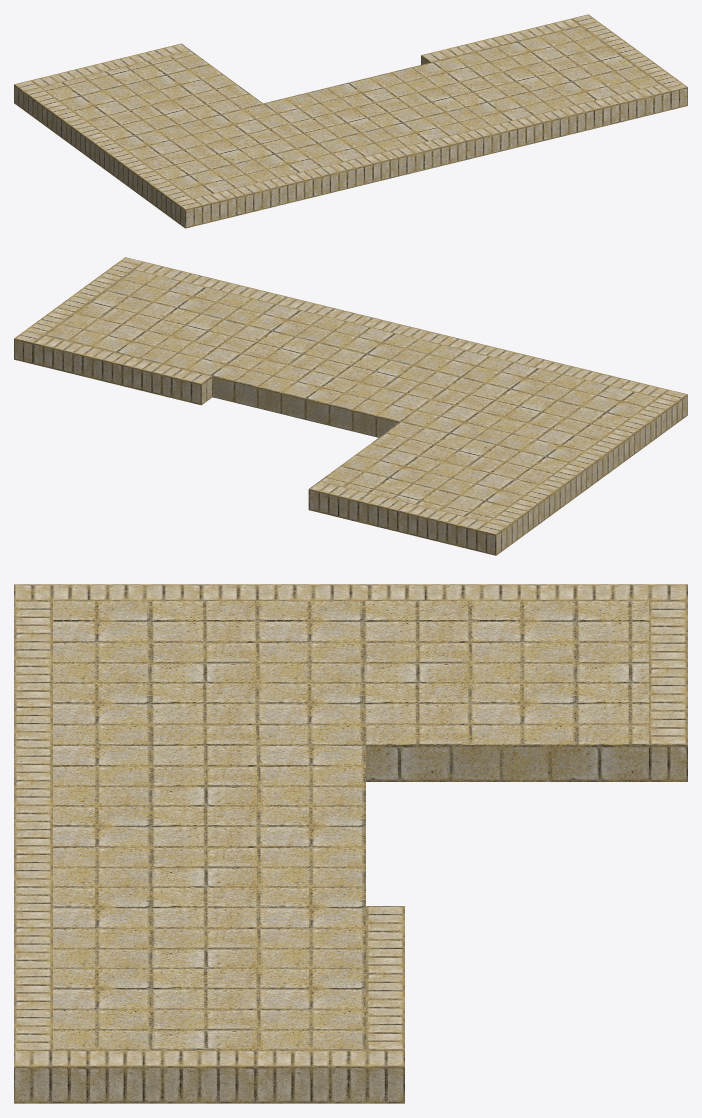
File: bridge_structure_platform02.dae
3 views of the same model, one above another, from view 1: azimuth 30°, elevation 25°; view 2: azimuth 150°, elevation 25°; view 3: azimuth 270°, elevation 25° (orthographic). The views are drawn at different scales.
Visible parts, largest first — view 1: bridge_structure_platform02; view 2: bridge_structure_platform02; view 3: bridge_structure_platform02.
Boxes of the visible parts, left/top/right/bottom form: bridge_structure_platform02: left=14, top=14, right=687, bottom=228; bridge_structure_platform02: left=14, top=257, right=687, bottom=555; bridge_structure_platform02: left=14, top=584, right=687, bottom=1103.
Bounding box in the file's own units: 21.76 × 12.85 × 0.7778.
2 materials, 2 textured.
